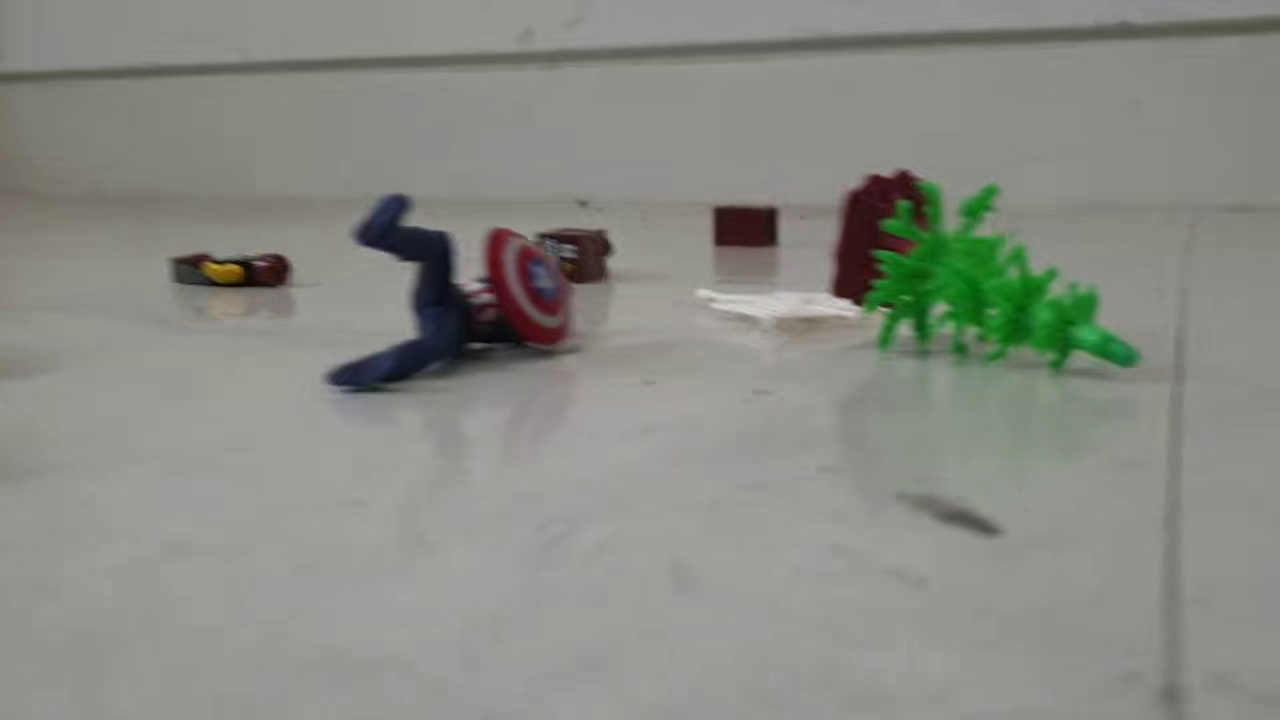box: (524, 225, 612, 286), (712, 205, 781, 249)
people: (325, 193, 575, 394), (170, 254, 294, 287)
tree: (828, 164, 1143, 380)
web: (692, 281, 879, 327)
